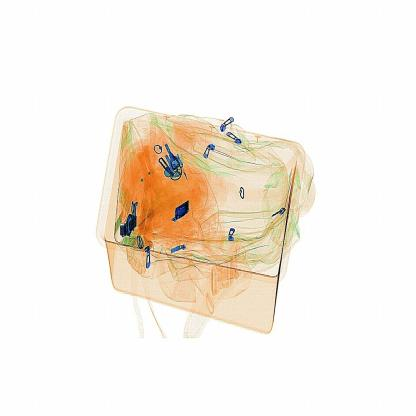knife: (172, 200, 195, 224)
